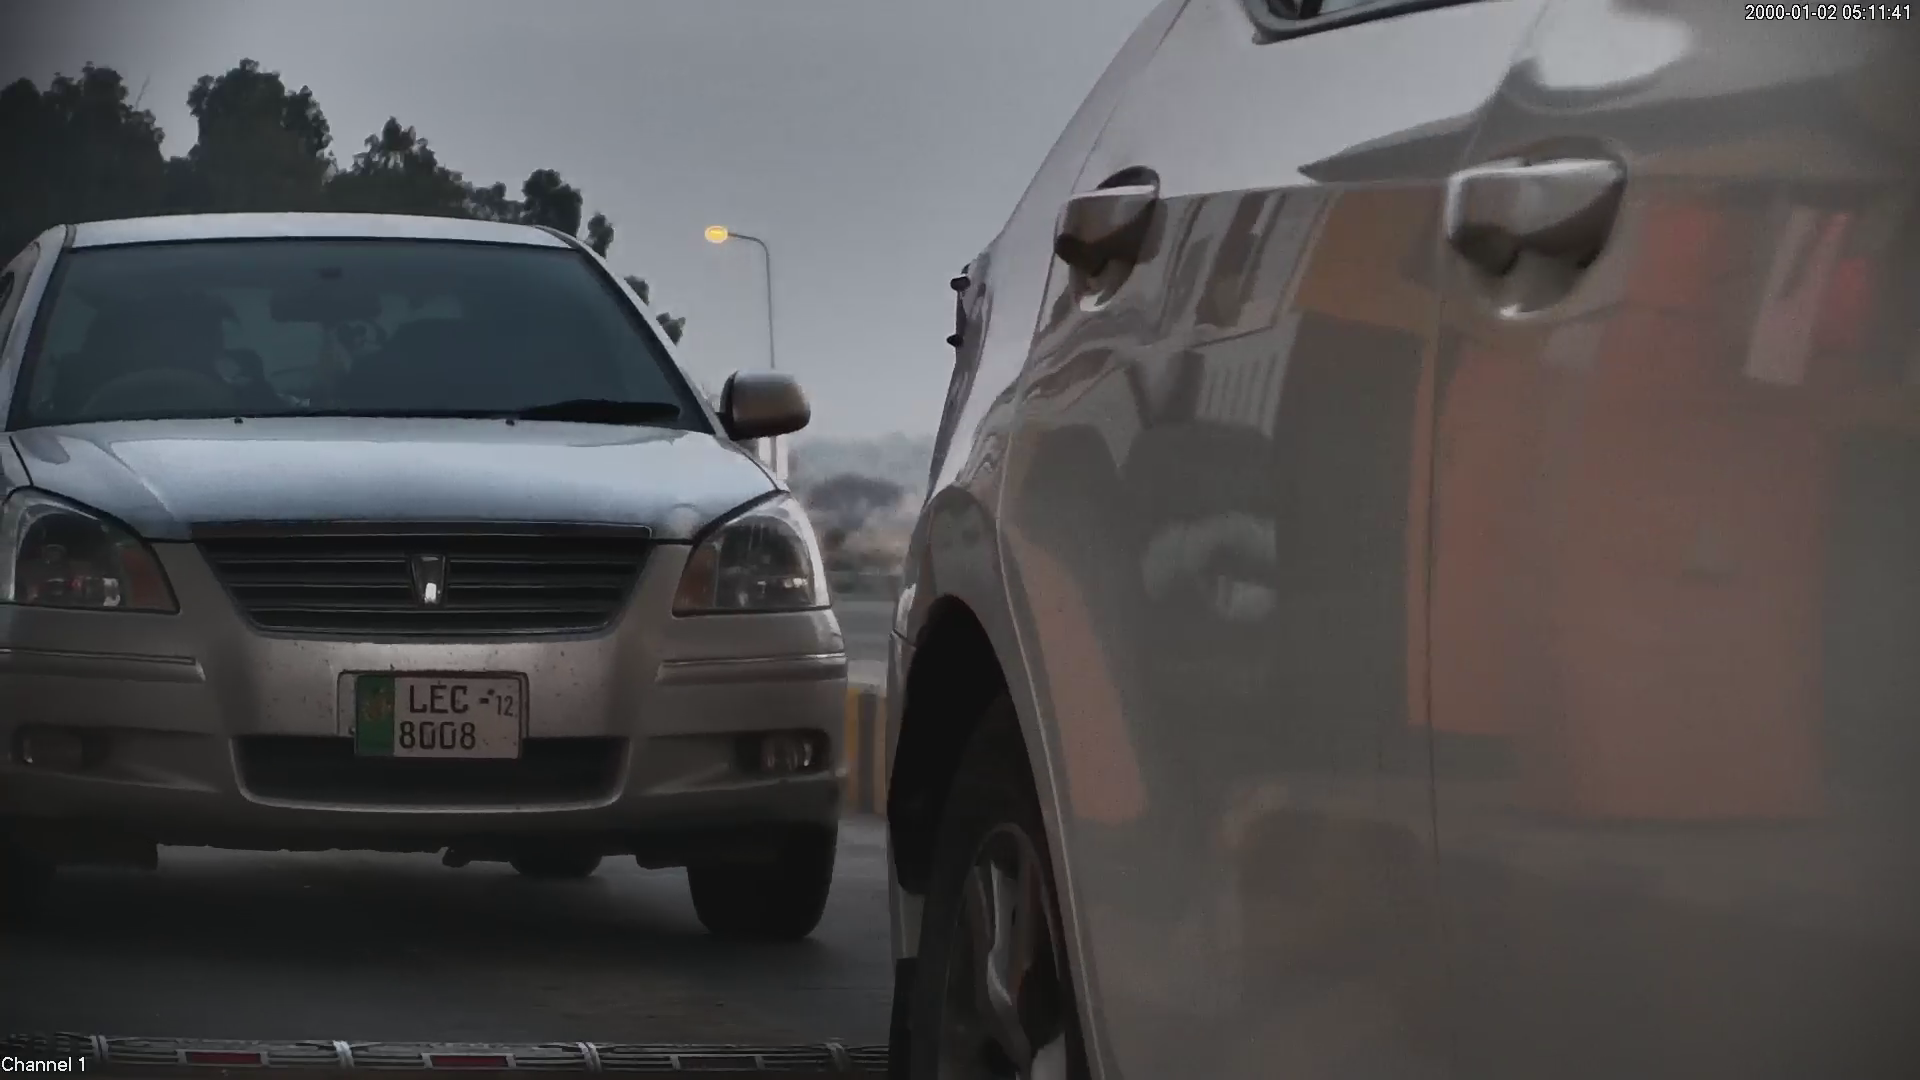Number_Plate: (345, 658, 538, 779)
